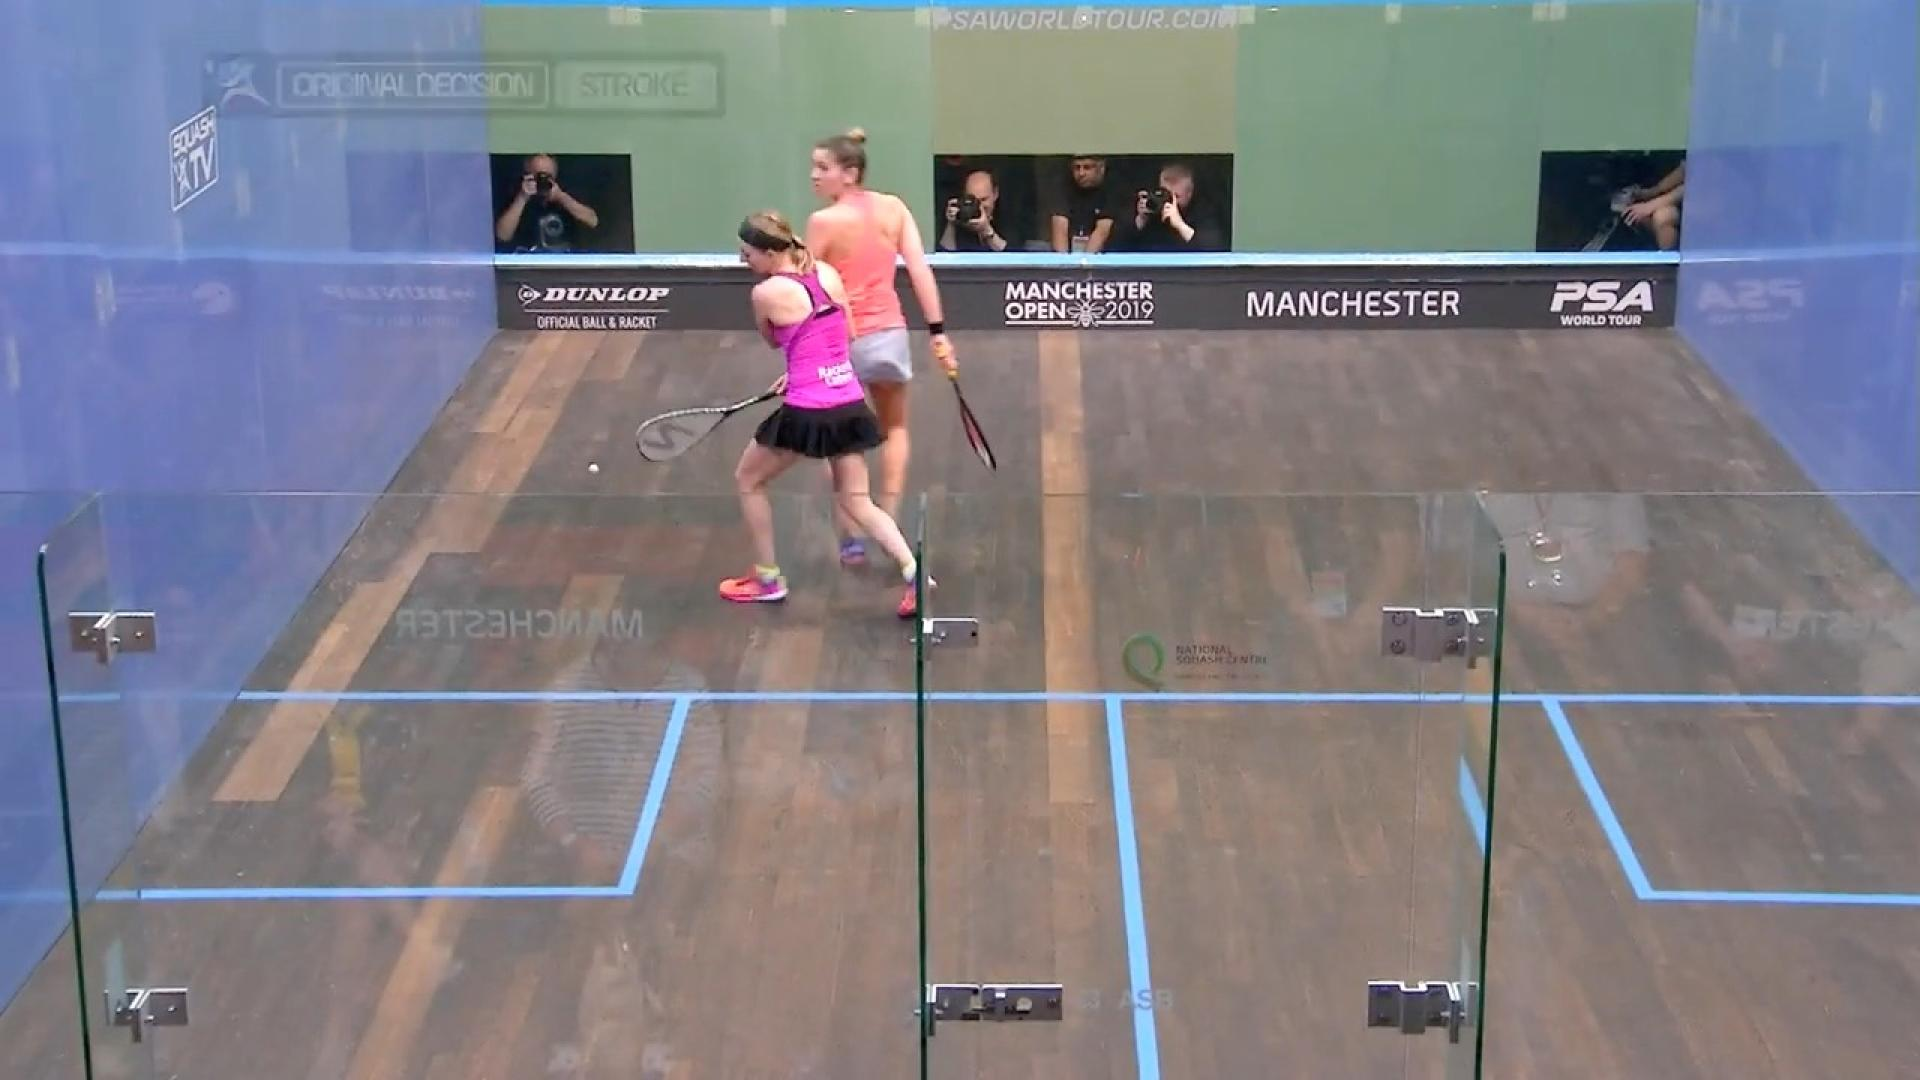Squash-Ball: (575, 447, 612, 500)
